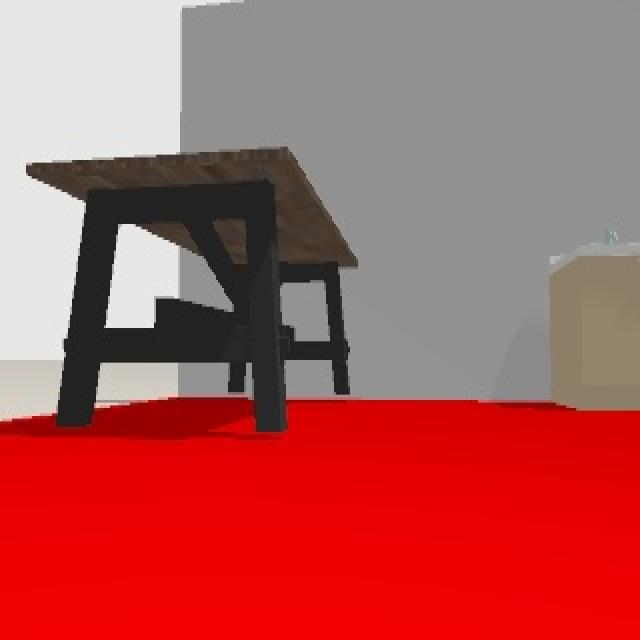dining: (26, 155, 357, 432)
